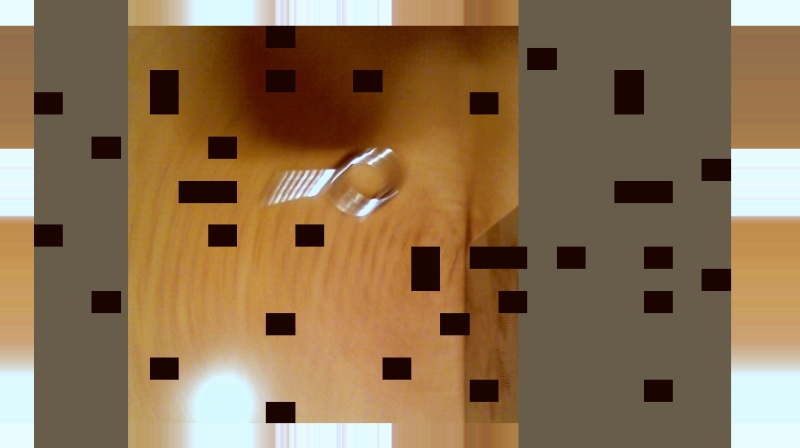O001: (262, 133, 411, 223)
